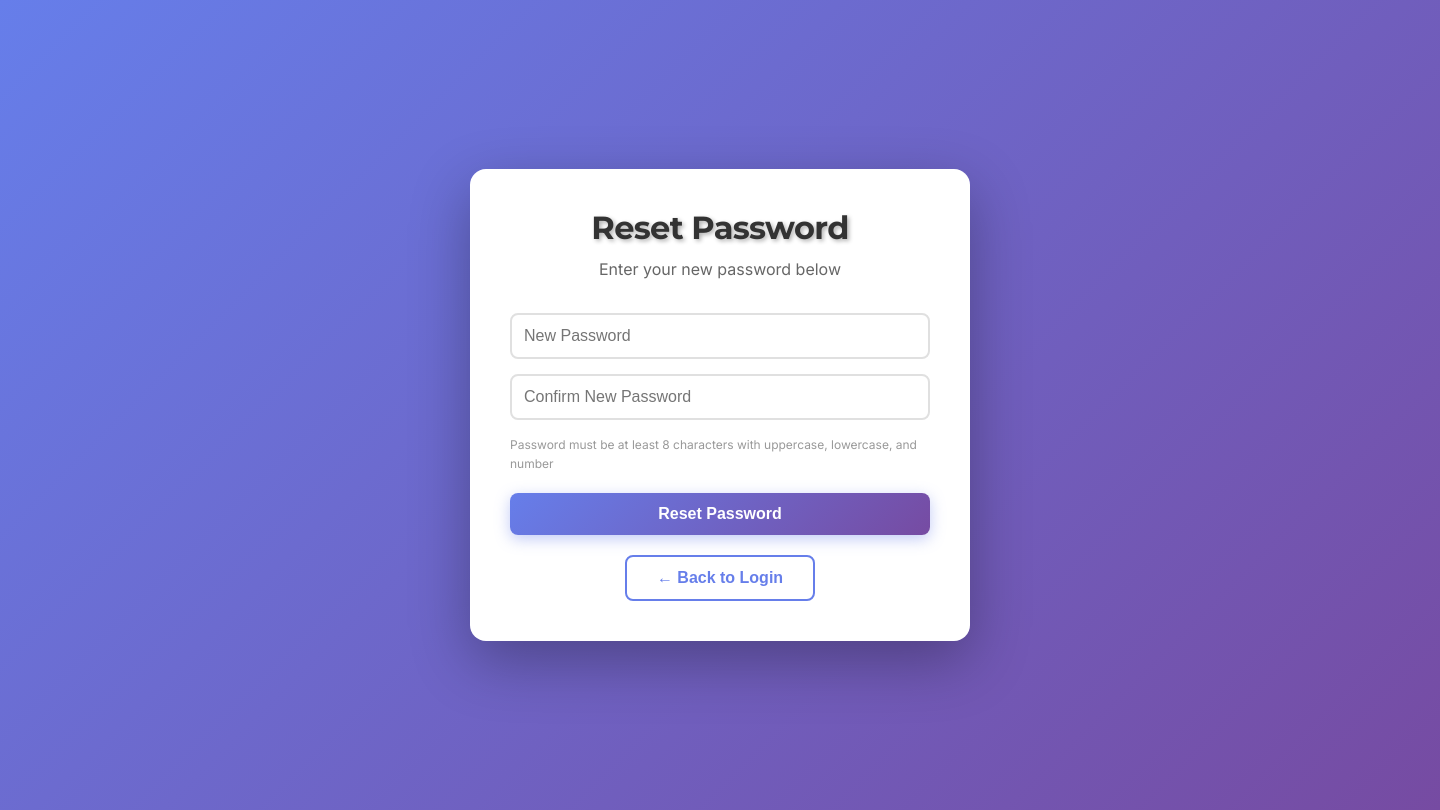
Test: ResetPassword Page › shows error if token is missing
// Fill form to trigger submit
In the password field with placeholder "New Password": (720, 336) [510,313,930,359], type "Password123"
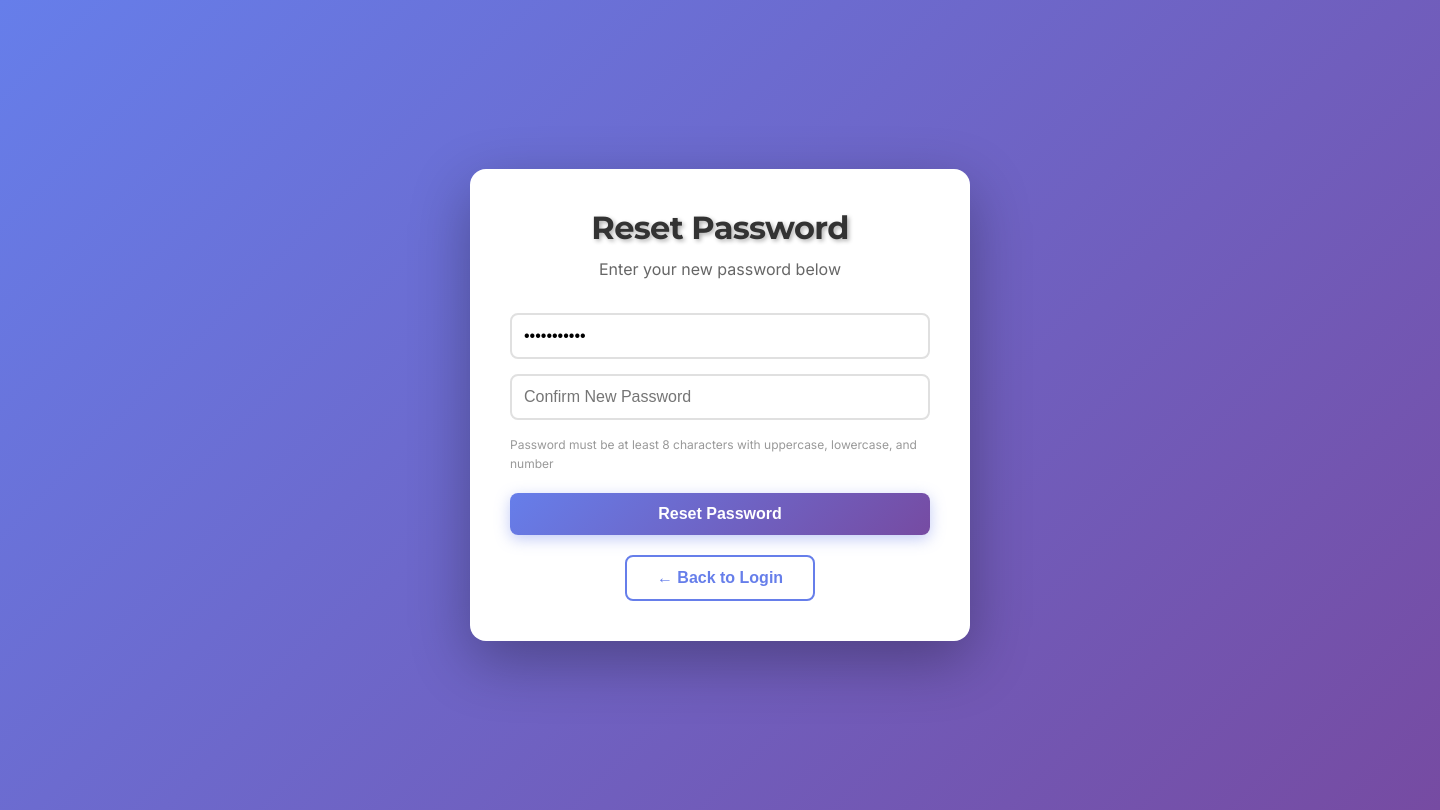
In the password field with placeholder "Confirm New Password": (720, 397) [510,374,930,420], type "Password123"
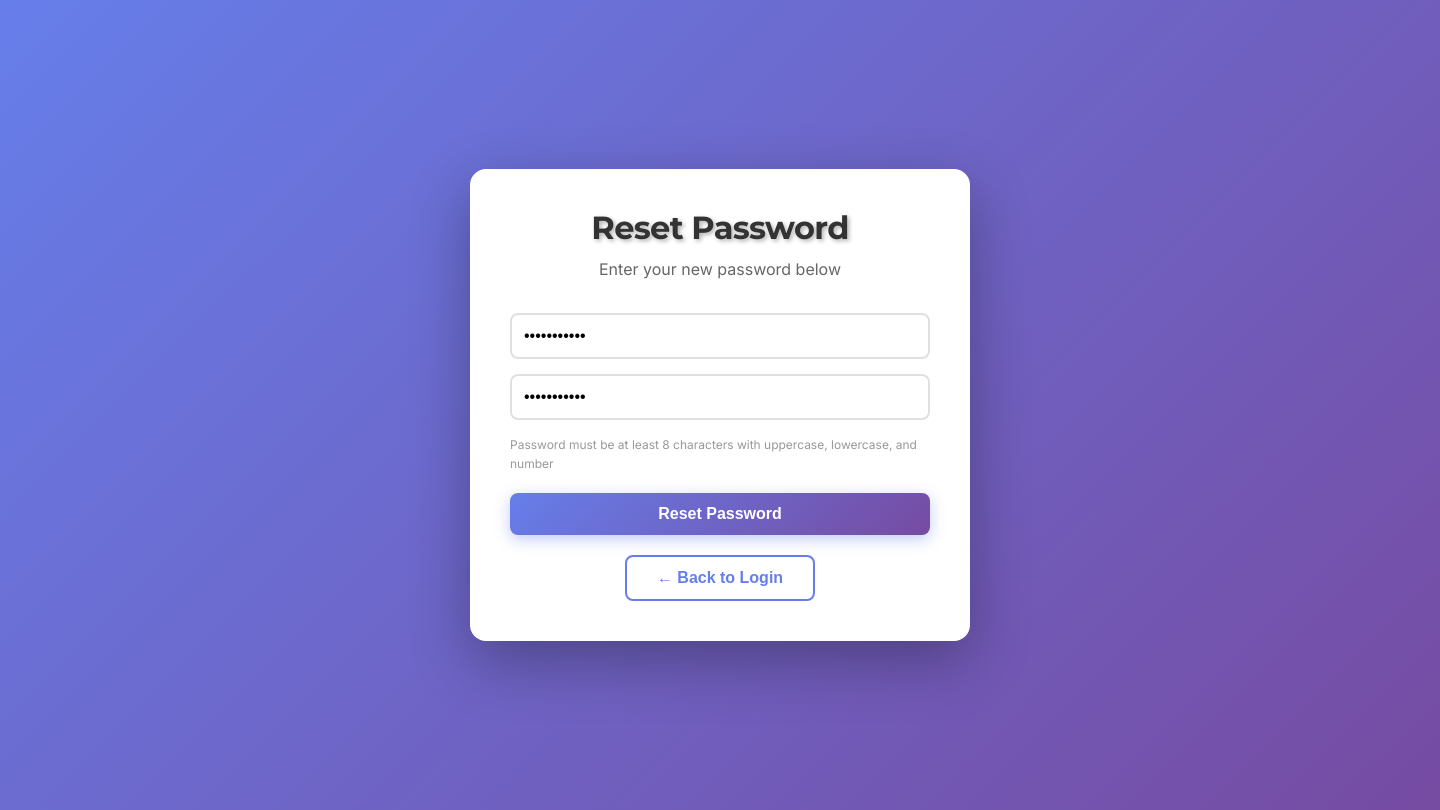
Click the button "Reset Password": (720, 514) [510,493,930,535]
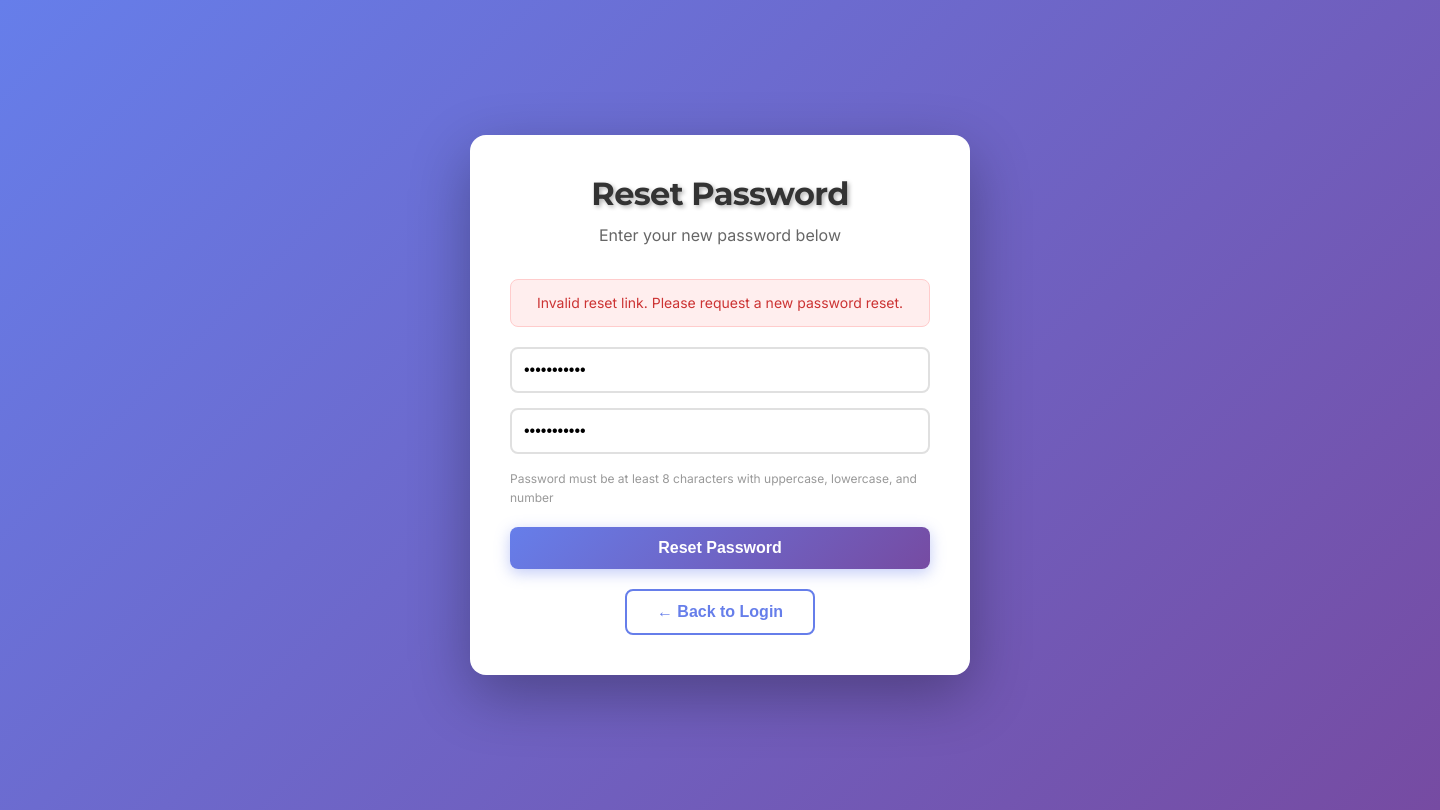
Expected: the text "Invalid reset link. Please request a new password reset." is shown, [510,279,930,327]
